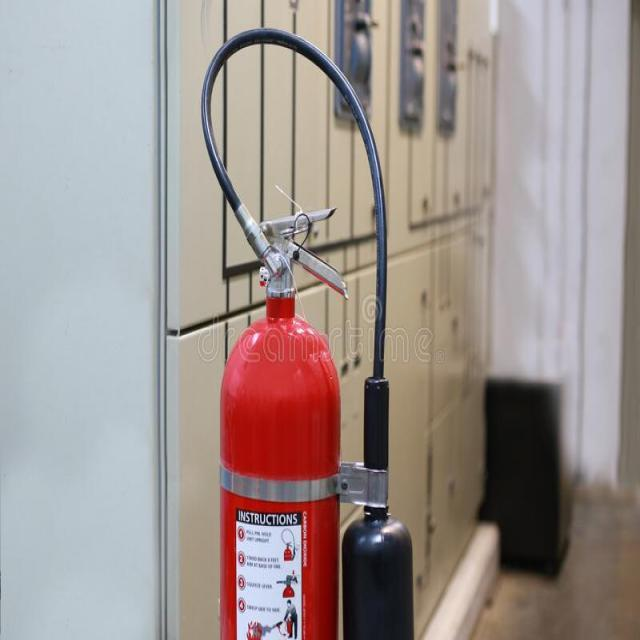fire_extinguisher: (196, 23, 419, 639)
